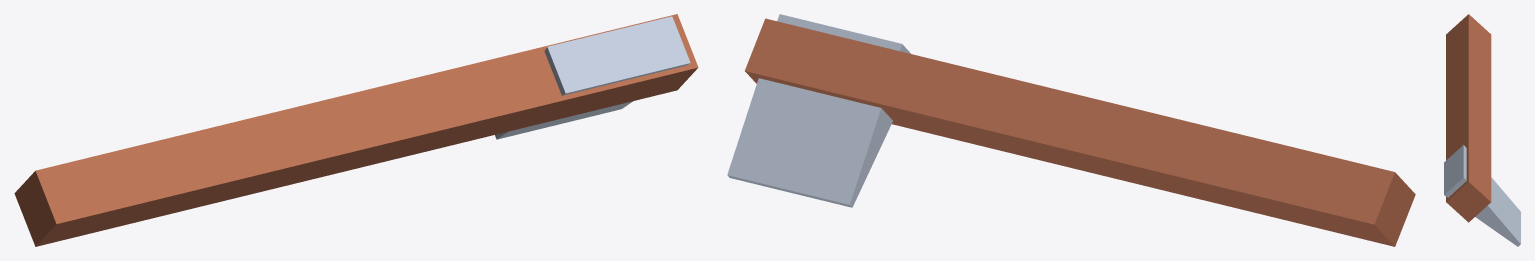
Rendered from object_axe.glb.
3 renders of one model, left to right at view 1: azimuth 30°, elevation 25°; view 2: azimuth 150°, elevation 25°; view 3: azimuth 270°, elevation 25°, orthographic. The views are drawn at different scales.
Parts seen in each view (by area): view 1: axe; view 2: axe; view 3: axe.
Boxes of the visible parts, x1,y1,x2,y2 form: axe: (14, 14, 698, 246); axe: (727, 14, 1415, 246); axe: (1444, 14, 1520, 246).
Size of the model in its own units: 1.28 by 0.2486 by 0.2486.
